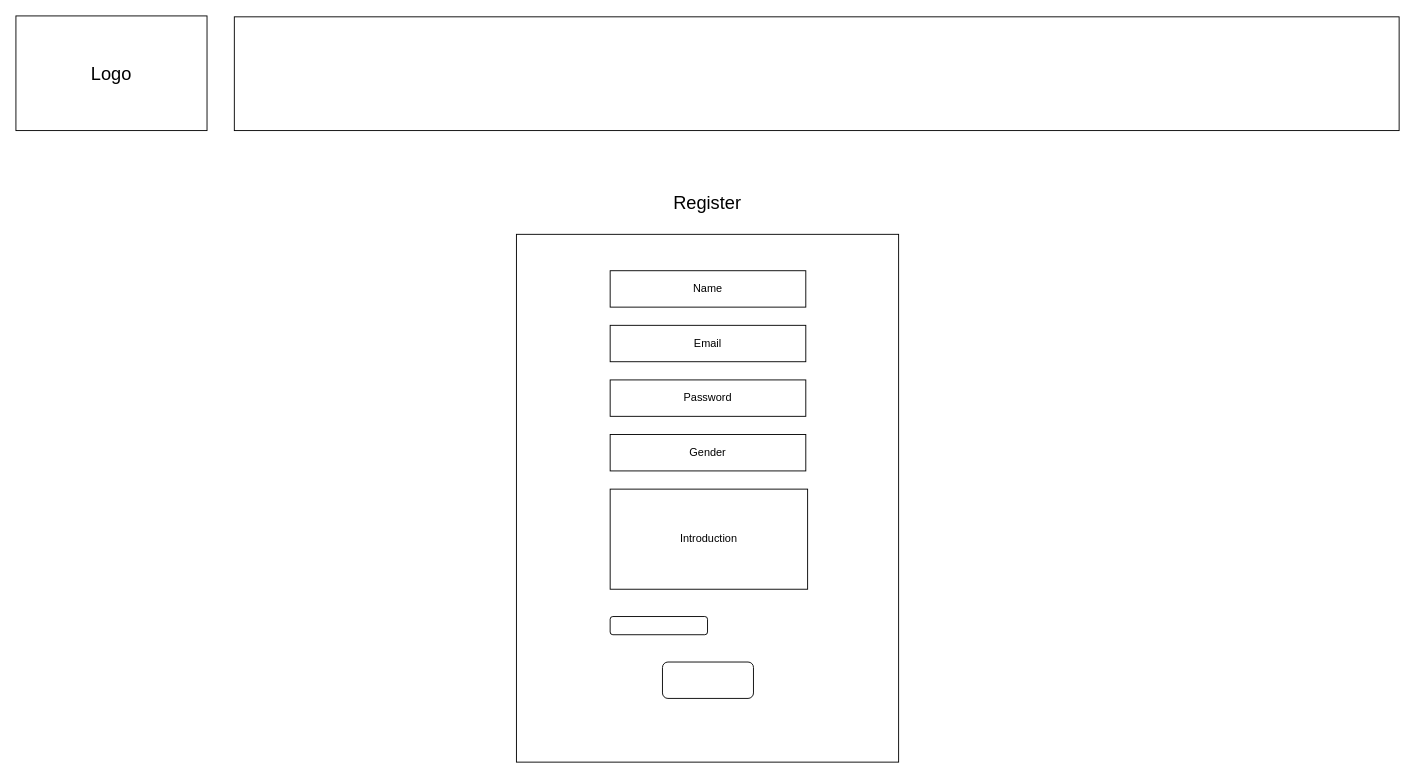
Some shapes in this 1415 by 778 pixel diagram are drawn without their labels. The centre of each missing label's shape, as x and y in pixels:
choose file: the point at 658,625
Navbar: the point at 816,73
Submit: the point at 707,679
